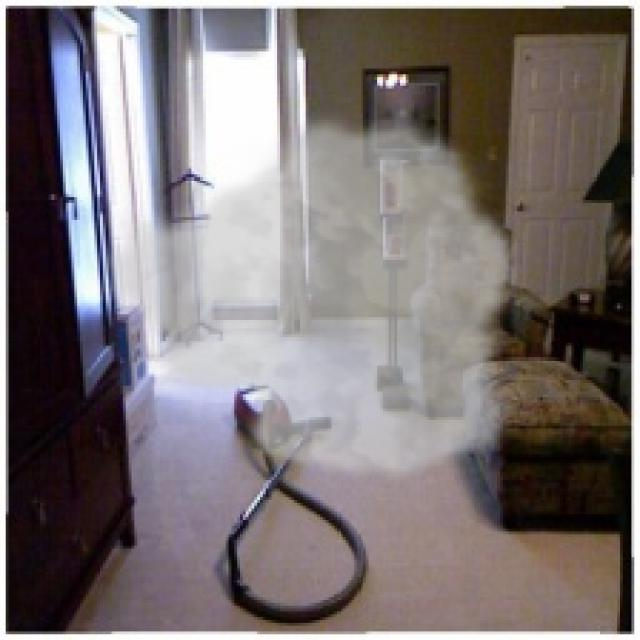smoke: (97, 106, 523, 486)
